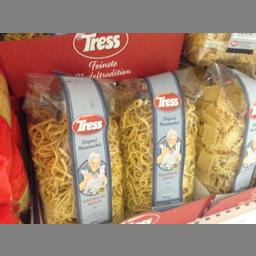pasta: (20, 72, 124, 222), (119, 71, 199, 214), (193, 62, 255, 192)
